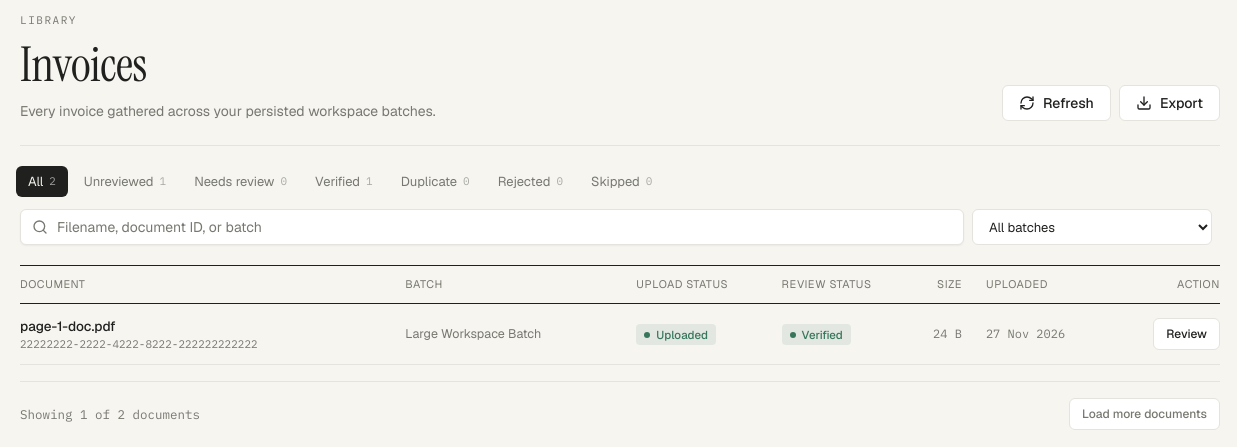
Scenario: Phase 7 — Truthful review UI, concurrency conflict recovery, and label consistency › supports /app/invoices pagination beyond a single page via Load more documents
Expected: the text "page-1-doc.pdf" is shown, x1=20 y1=316 x2=116 y2=334
Expected: the text "page-2-doc.pdf" is not shown
Click the button "Load more documents" at (1145, 414), box x1=1069 y1=398 x2=1220 y2=430
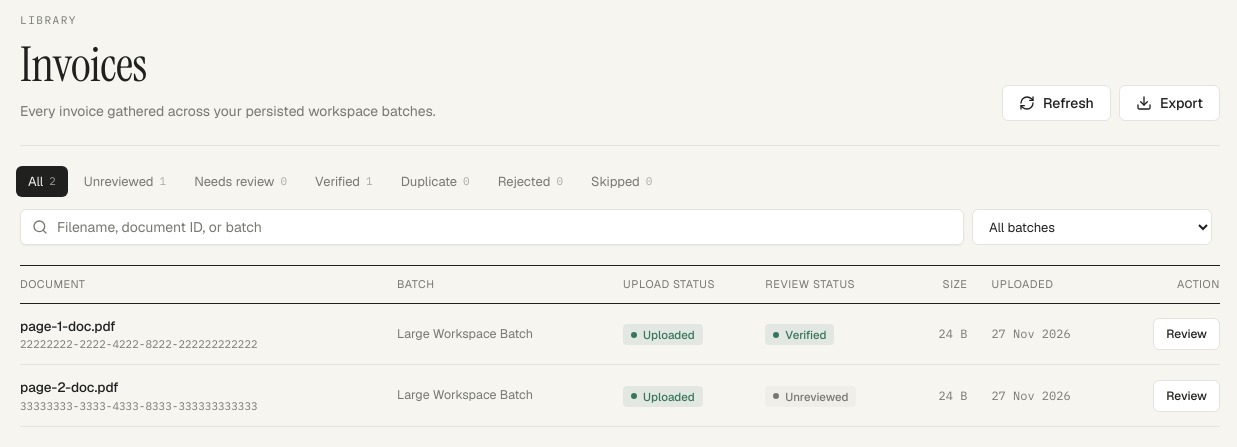
Expected: the text "page-1-doc.pdf" is shown, x1=20 y1=316 x2=116 y2=334
Now the text "page-2-doc.pdf" is shown, box x1=20 y1=378 x2=119 y2=396
Now the button "Load more documents" is gone
